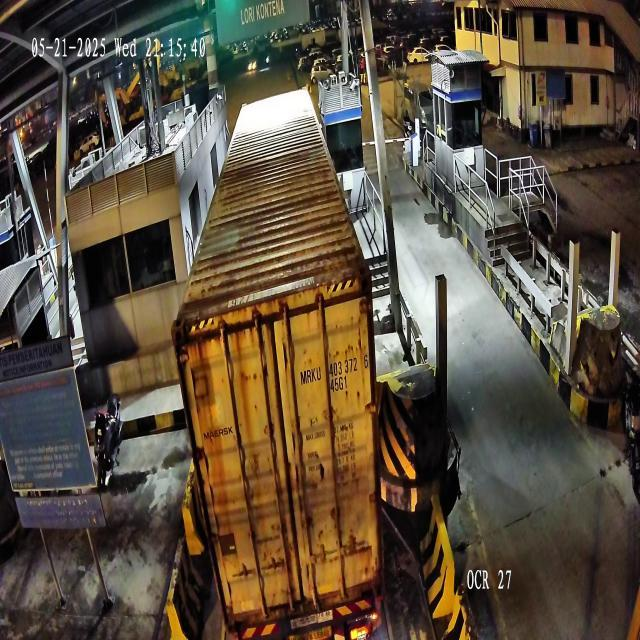ISO: (330, 376, 350, 394)
container_number: (298, 352, 372, 386)
